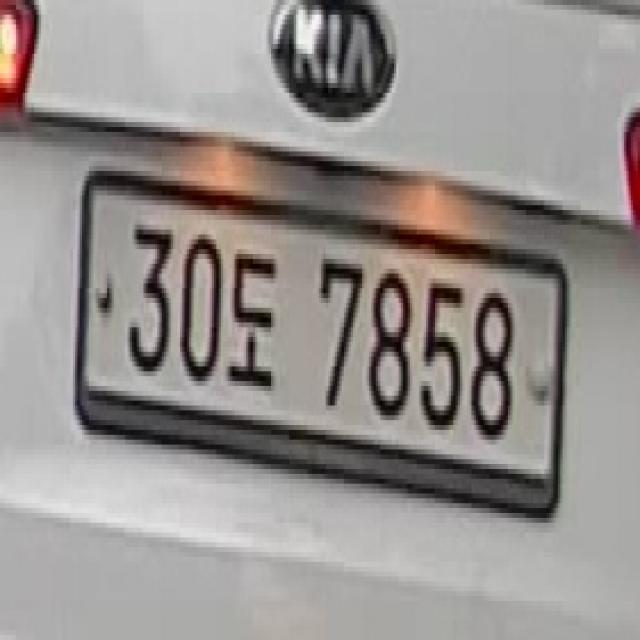0: (180, 230, 223, 386)
3: (130, 220, 173, 376)
5: (421, 274, 465, 430)
7: (317, 250, 362, 410)
8: (366, 269, 414, 420), (469, 288, 515, 440)
do: (226, 240, 276, 400)
license_plate: (73, 161, 569, 528)
